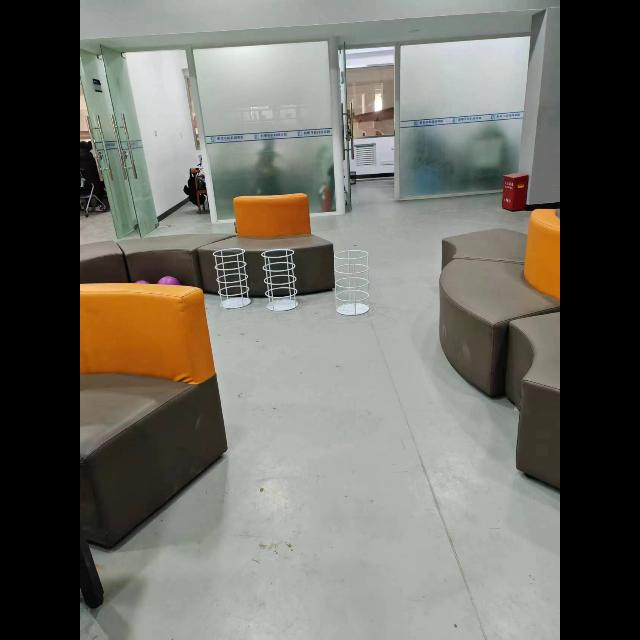P: (157, 274, 176, 286)
S: (261, 249, 299, 311), (335, 250, 369, 315), (214, 249, 250, 309)
